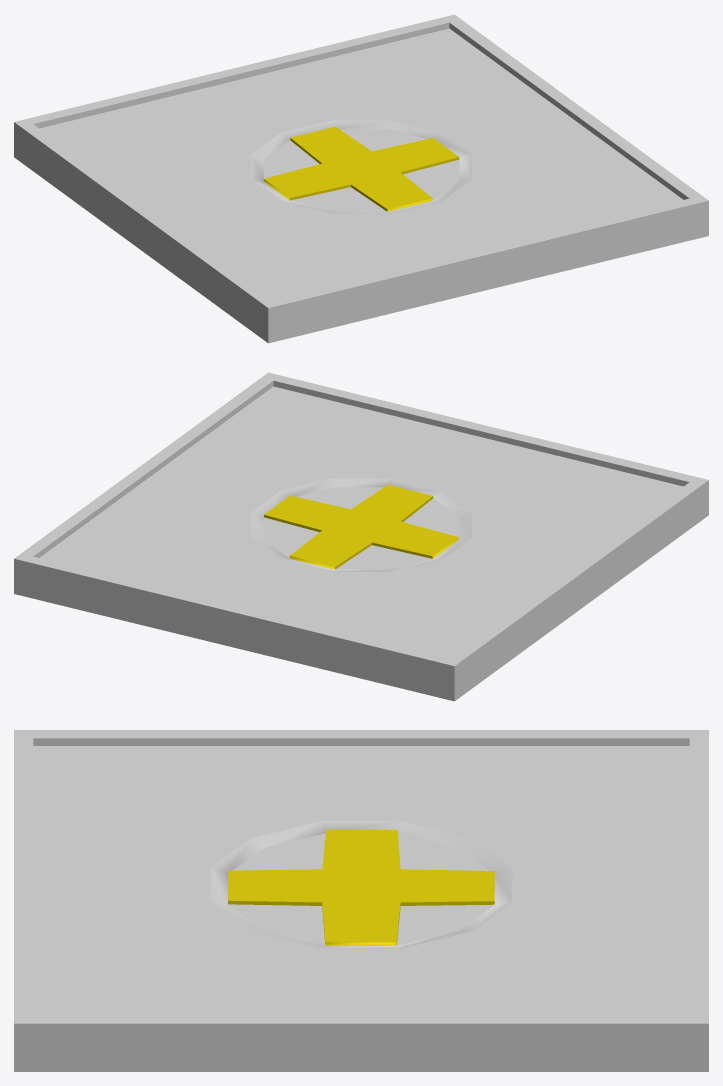
The model's file is Square Platform.fbx.
3 renders of one model, top to bottom at view 1: azimuth 30°, elevation 25°; view 2: azimuth 150°, elevation 25°; view 3: azimuth 270°, elevation 25°, orthographic. The views are drawn at different scales.
Parts seen in each view (by area): view 1: Square Platform; view 2: Square Platform; view 3: Square Platform.
Boxes of the visible parts, bbox=[...] form: Square Platform: bbox=[14, 14, 708, 343]; Square Platform: bbox=[14, 372, 708, 701]; Square Platform: bbox=[14, 730, 708, 1071].
Bounding box in the file's own units: 2079 × 262 × 2079.
